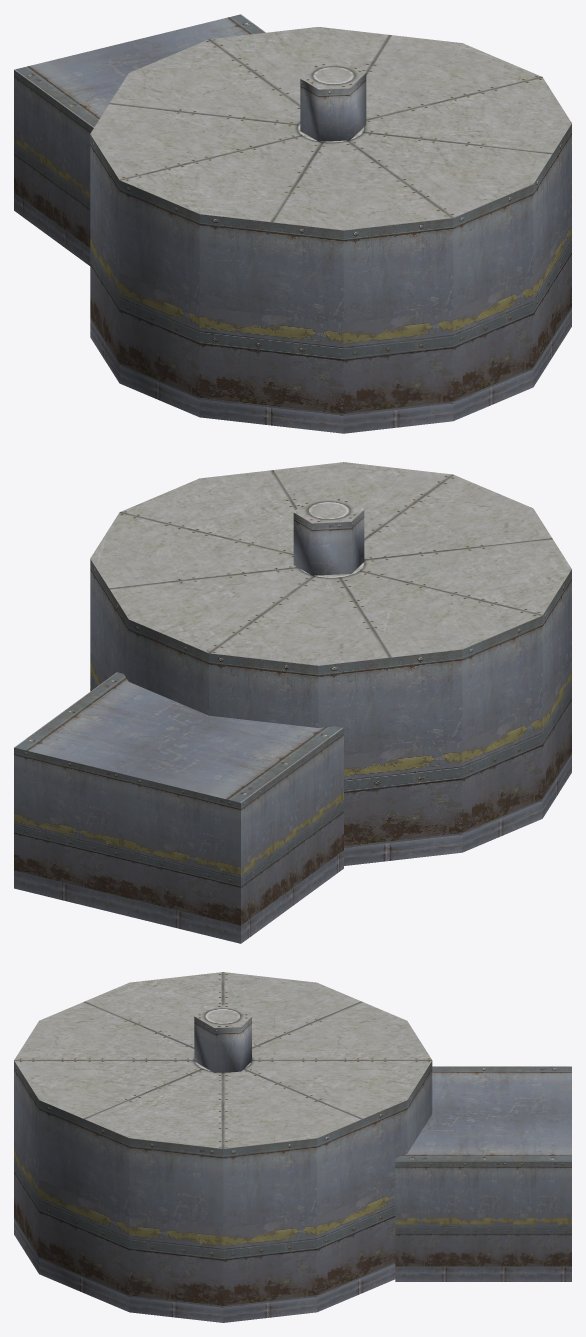
File: Building_Gccyg01_lod2.glb
The picture shows the model from 3 angles, top to bottom: view 1: azimuth 30°, elevation 25°; view 2: azimuth 150°, elevation 25°; view 3: azimuth 270°, elevation 25°; orthographic projection. The views are drawn at different scales.
Visible parts, largest first — view 1: xiutz_gccyg_01_lod2_0; view 2: xiutz_gccyg_01_lod2_0; view 3: xiutz_gccyg_01_lod2_0.
Part boxes in pixels (x1,y1,x2,y2): xiutz_gccyg_01_lod2_0: [14, 14, 571, 433]; xiutz_gccyg_01_lod2_0: [14, 462, 571, 943]; xiutz_gccyg_01_lod2_0: [14, 972, 571, 1322].
Size of the model in its own units: 70 by 40.44 by 93.35.
Materials: 2 (2 with a texture image).
